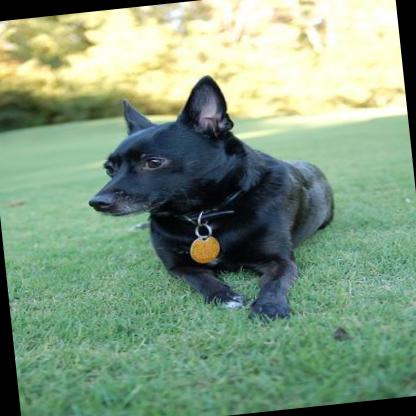schipperke: (72, 59, 352, 341)
